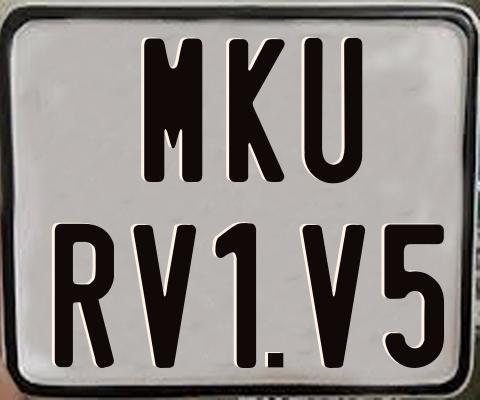1: (212, 222, 256, 367)
5: (383, 224, 448, 368)
K: (227, 38, 284, 181)
M: (144, 36, 203, 180)
R: (52, 223, 113, 367)
U: (303, 35, 367, 184)
V: (131, 223, 198, 371), (299, 223, 364, 370)
